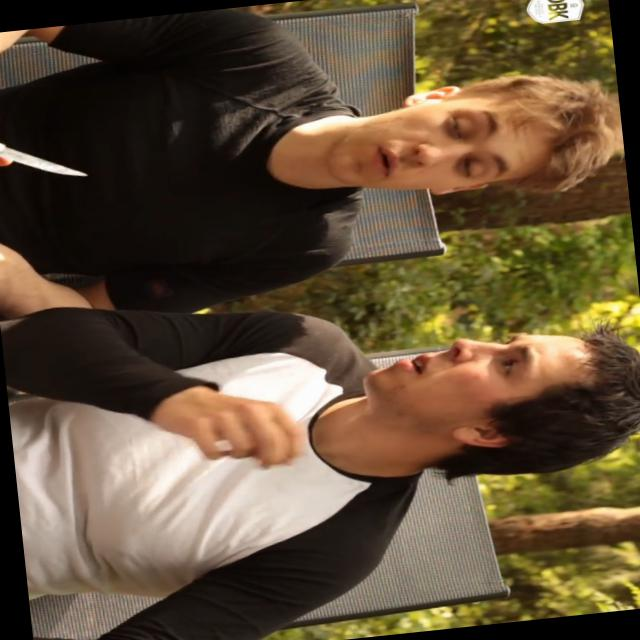knife: (0, 115, 101, 198)
